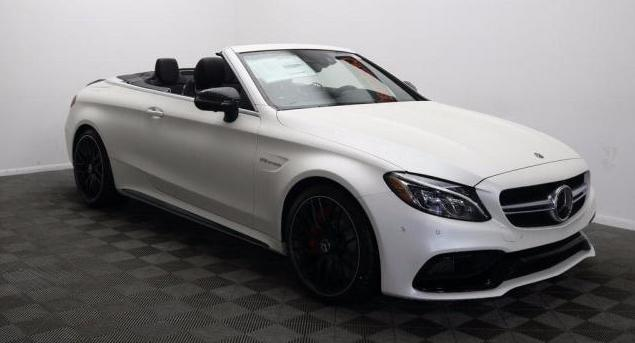C63AMG: (65, 36, 604, 309)
